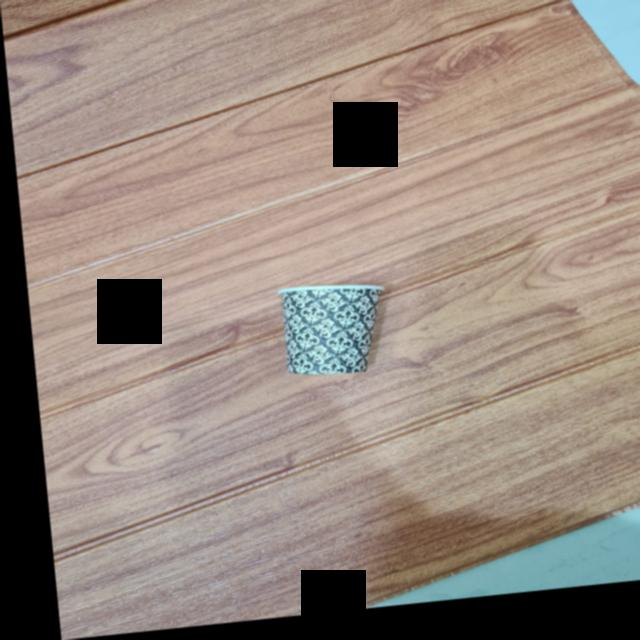cups: (264, 279, 393, 393)
